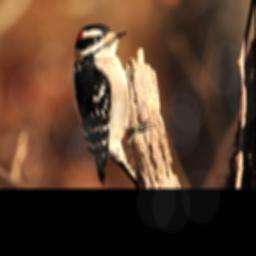Woodpecker: (71, 19, 156, 186)
